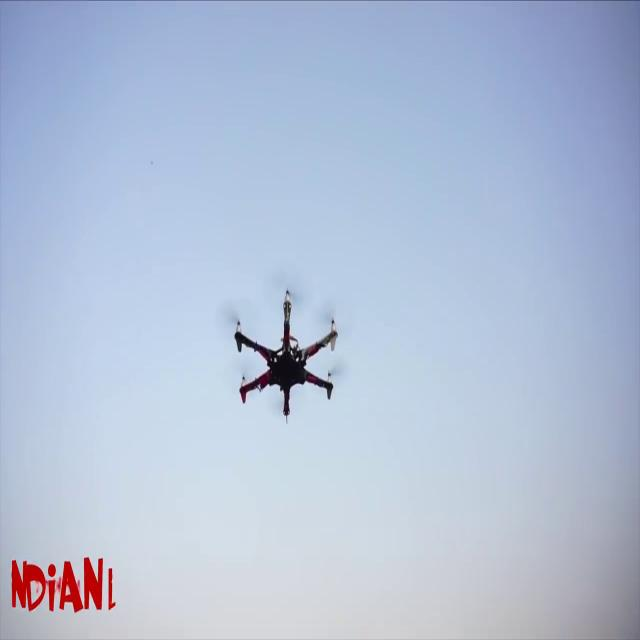drone: (207, 286, 360, 432)
